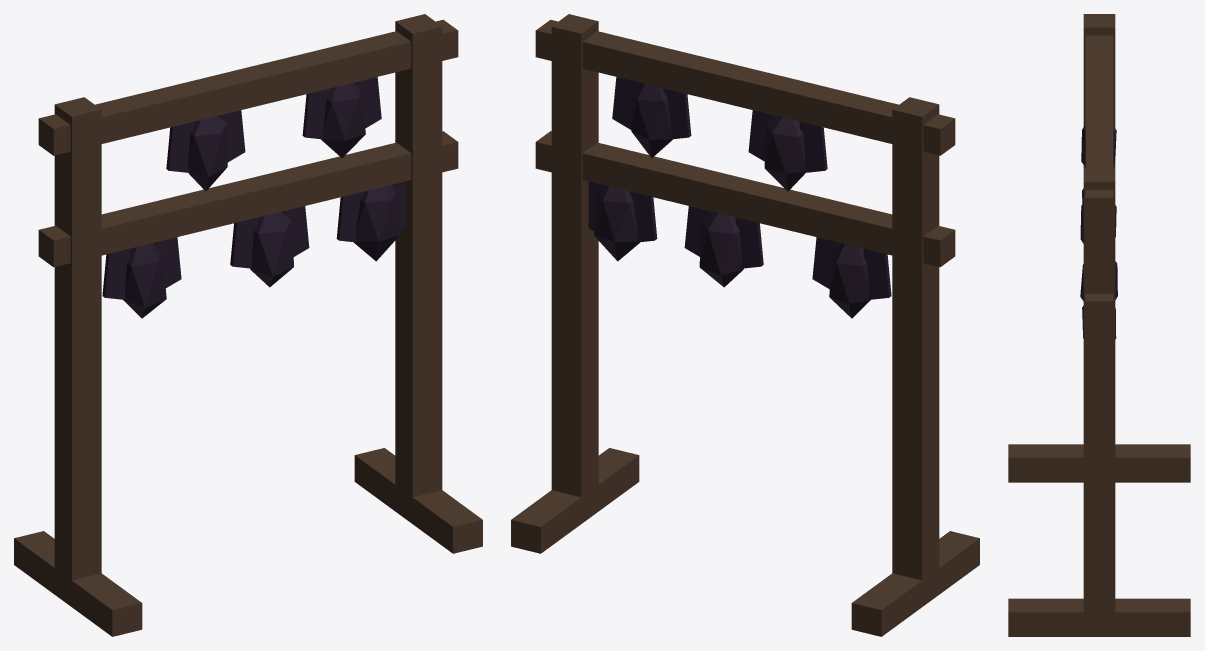
The model's file is bat_perch.glb.
The picture shows the model from 3 angles, left to right: view 1: azimuth 30°, elevation 25°; view 2: azimuth 150°, elevation 25°; view 3: azimuth 270°, elevation 25°; orthographic projection. The views are drawn at different scales.
Parts seen in each view (by area): view 1: bat_perch; view 2: bat_perch; view 3: bat_perch.
Part boxes in pixels (box(x1,y1,x2,y2)): bat_perch: box(14, 14, 482, 636); bat_perch: box(511, 14, 979, 636); bat_perch: box(1008, 14, 1190, 636).
Size of the model in its own units: 0.95 by 1.1 by 0.4.
